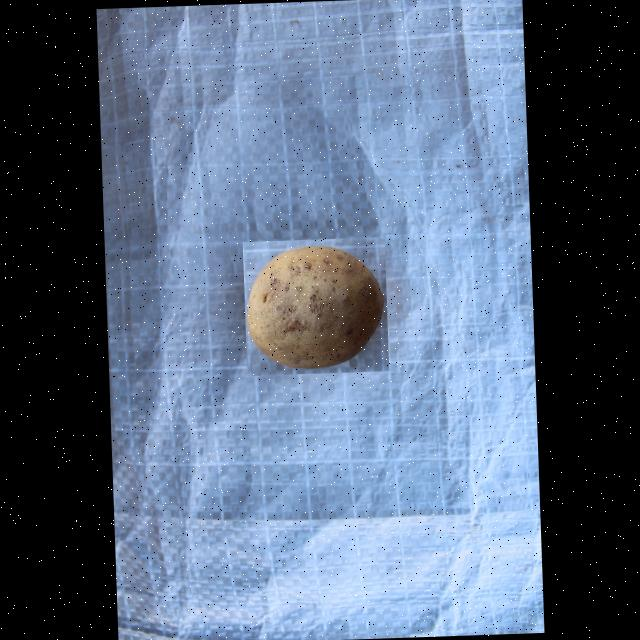Diseased-fungal potato: (242, 236, 389, 374)
